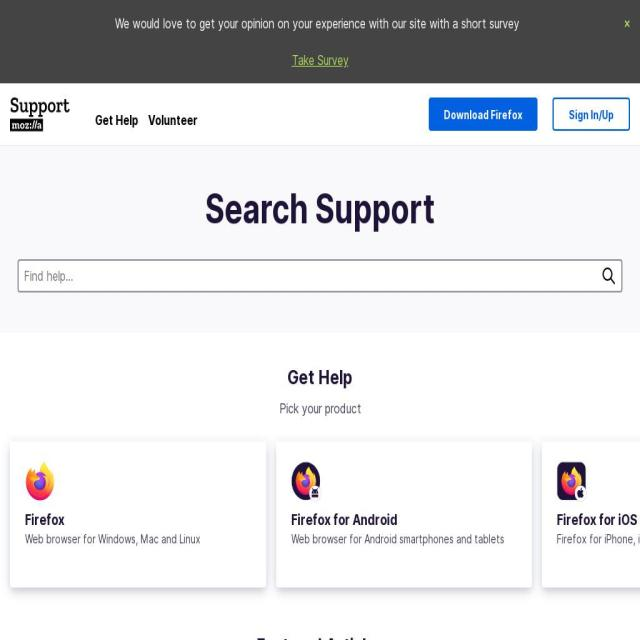button: (10, 50, 630, 70), (428, 97, 538, 131), (552, 97, 630, 131), (10, 96, 70, 132), (599, 263, 619, 289)
field: (18, 259, 622, 293)
heading: (18, 186, 622, 232), (10, 366, 630, 389), (10, 633, 630, 640), (290, 510, 398, 528), (557, 510, 638, 528), (25, 510, 64, 528)
image: (10, 96, 70, 132), (25, 461, 55, 502), (291, 461, 321, 502), (557, 461, 587, 502)
link: (148, 110, 198, 130), (95, 110, 138, 130), (624, 17, 630, 31)
text: (10, 14, 630, 34), (10, 398, 630, 418), (290, 529, 518, 548), (25, 529, 251, 548), (557, 529, 640, 548)
